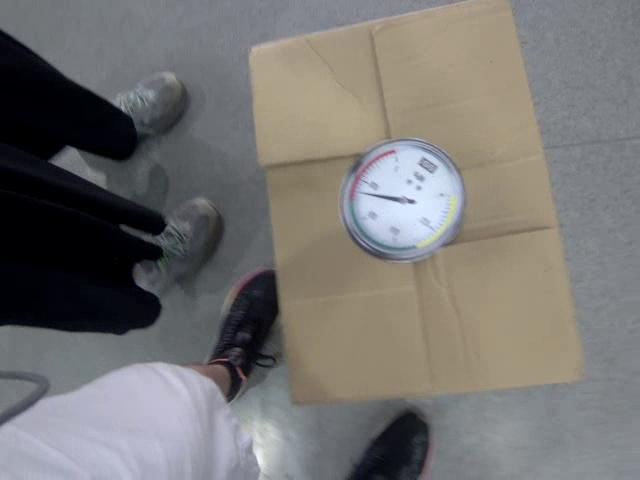Dashboard: (337, 139, 465, 264)
ssi: (417, 154, 438, 173)
